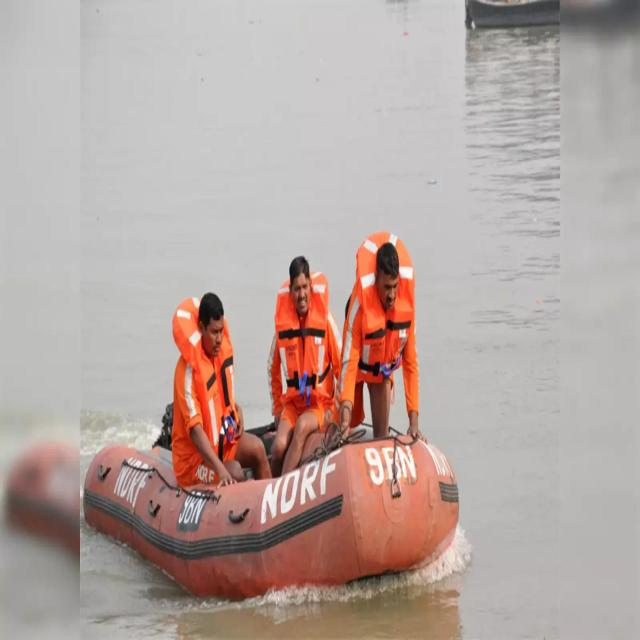rescuer: (352, 225, 419, 426), (275, 246, 337, 431), (183, 280, 237, 484)
